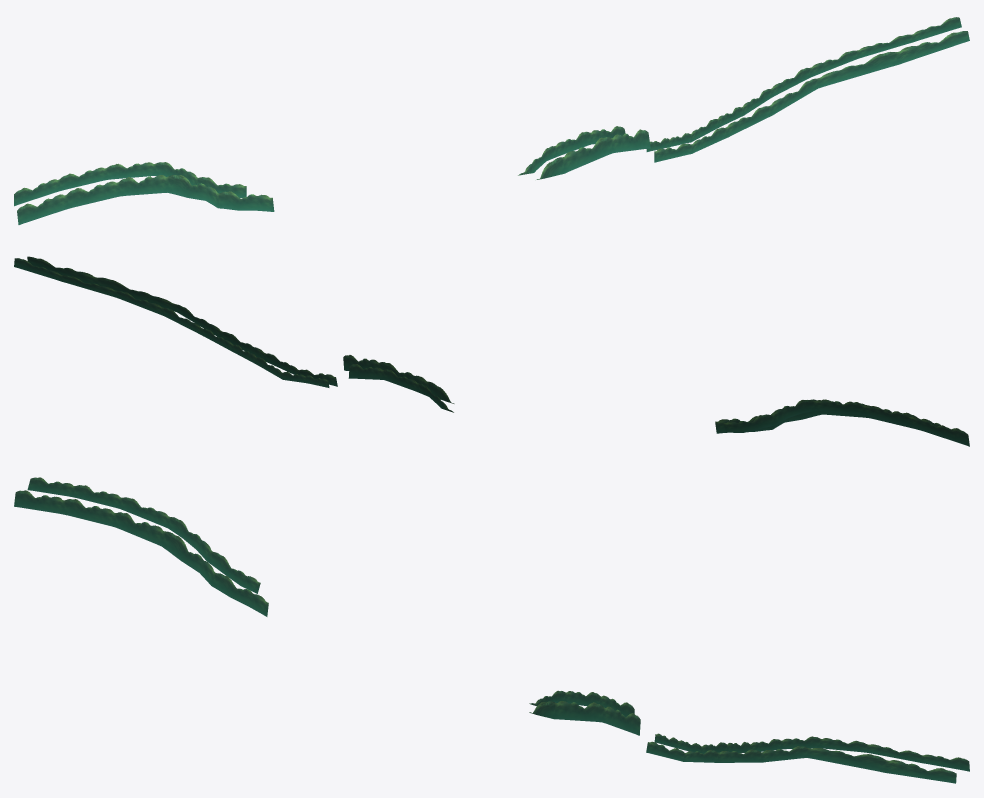
File: Dark Forest Grass BG 2.FBX
3 views of the same model, one above another, from view 1: azimuth 30°, elevation 25°; view 2: azimuth 150°, elevation 25°; view 3: azimuth 330°, elevation 25° (orthographic).
Visible parts, largest first — view 1: Grass BG2 Part 5, Grass BG 2, Grass BG2 Part 4; view 2: Grass BG2 Part 5, Grass BG 2, Grass BG2 Part 4; view 3: Grass BG 2, Grass BG2 Part 5, Grass BG2 Part 4.
Part boxes in pixels (left/top/right/bottom): Grass BG2 Part 5: left=646, top=17, right=969, bottom=162; Grass BG 2: left=14, top=162, right=274, bottom=224; Grass BG2 Part 4: left=518, top=126, right=650, bottom=179; Grass BG2 Part 5: left=14, top=256, right=337, bottom=387; Grass BG 2: left=715, top=399, right=969, bottom=446; Grass BG2 Part 4: left=343, top=355, right=454, bottom=412; Grass BG 2: left=14, top=477, right=268, bottom=616; Grass BG2 Part 5: left=646, top=733, right=969, bottom=783; Grass BG2 Part 4: left=529, top=690, right=640, bottom=735.
Size of the model in its own units: 35287 by 784 by 4365.
